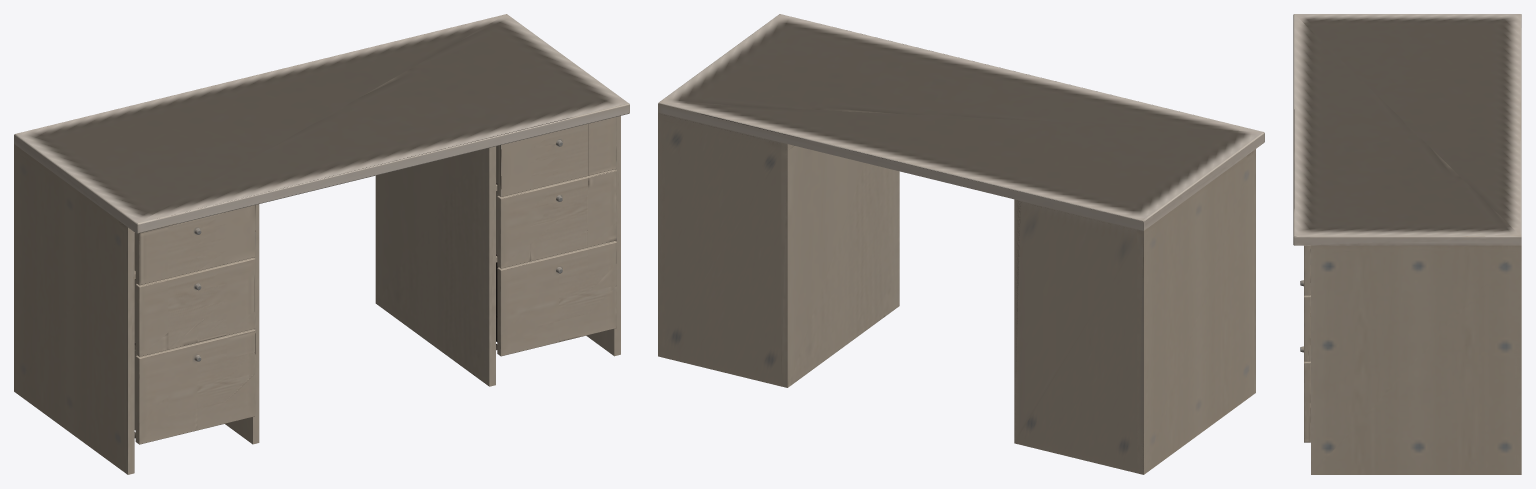
Rendered from desk_0001.glb.
3 renders of one model, left to right at view 1: azimuth 30°, elevation 25°; view 2: azimuth 150°, elevation 25°; view 3: azimuth 270°, elevation 25°, orthographic. The views are drawn at different scales.
Parts seen in each view (by area): view 1: carcass_2, carcass_0, drawer_3b_0, drawer_3_0, drawer_2b_0, drawer_2_0, drawer_1b_0, drawer_1_0; view 2: carcass_0, carcass_2; view 3: carcass_2, carcass_0, drawer_3_0, drawer_2_0, drawer_1_0.
Boxes of the visible parts, x1,y1,x2,y2 form: carcass_2: [14, 14, 629, 233]; carcass_0: [14, 116, 620, 474]; drawer_3b_0: [134, 329, 255, 444]; drawer_3_0: [496, 241, 616, 356]; drawer_2b_0: [134, 257, 255, 356]; drawer_2_0: [496, 169, 616, 268]; drawer_1b_0: [134, 205, 255, 285]; drawer_1_0: [496, 117, 616, 196]; carcass_0: [658, 112, 1255, 474]; carcass_2: [658, 14, 1264, 230]; carcass_2: [1293, 14, 1521, 245]; carcass_0: [1311, 245, 1521, 474]; drawer_3_0: [1300, 346, 1310, 442]; drawer_2_0: [1300, 280, 1310, 361]; drawer_1_0: [1304, 245, 1310, 295].
Size of the model in its own units: 1.5 by 0.75 by 0.65.
1 material, 1 textured.
